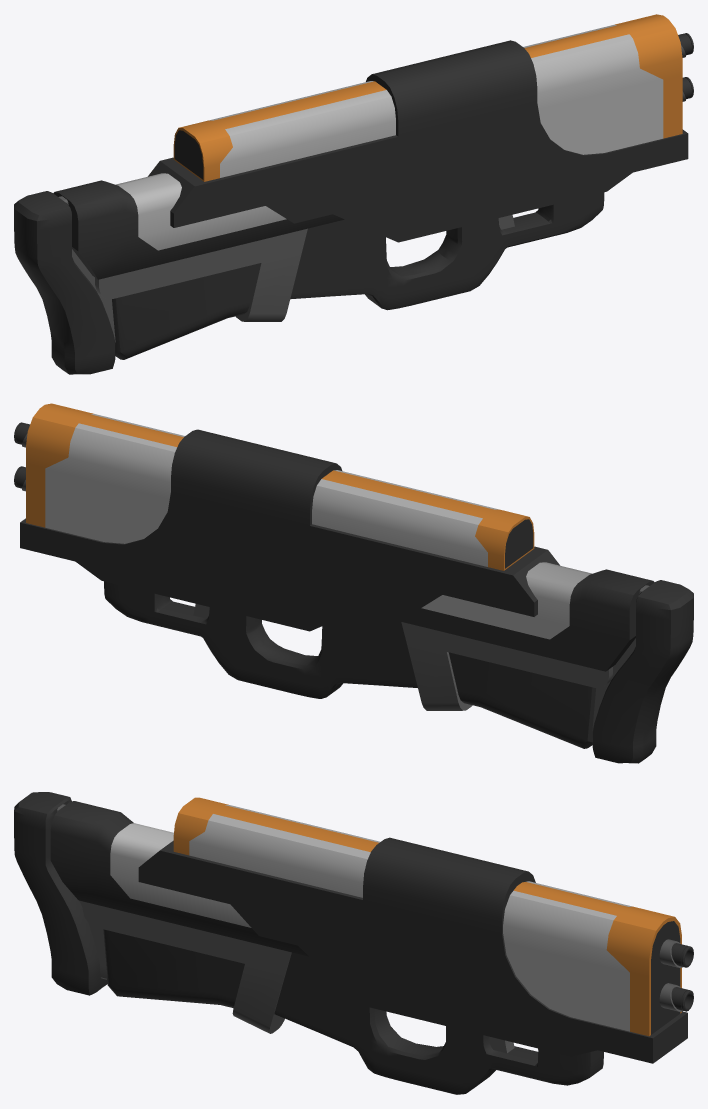
The picture shows the model from 3 angles, top to bottom: view 1: azimuth 30°, elevation 25°; view 2: azimuth 150°, elevation 25°; view 3: azimuth 330°, elevation 25°; orthographic projection.
Visible parts, largest first — view 1: AR_2; view 2: AR_2; view 3: AR_2.
Boxes of the visible parts, <box> form: AR_2: <box>14,14,693,374</box>; AR_2: <box>14,403,693,763</box>; AR_2: <box>14,792,693,1094</box>.
Bounding box in the file's own units: 1.49 × 0.4864 × 0.1356.
